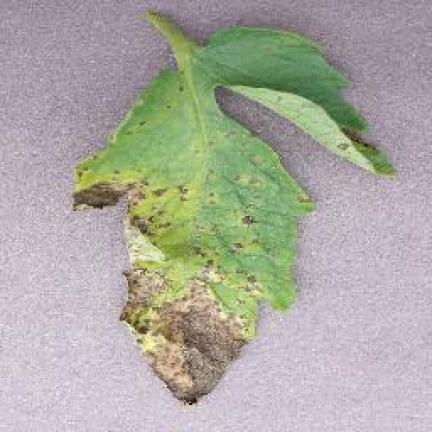disease: (74, 12, 392, 400)
leaf: (73, 160, 261, 404), (179, 86, 184, 93)
